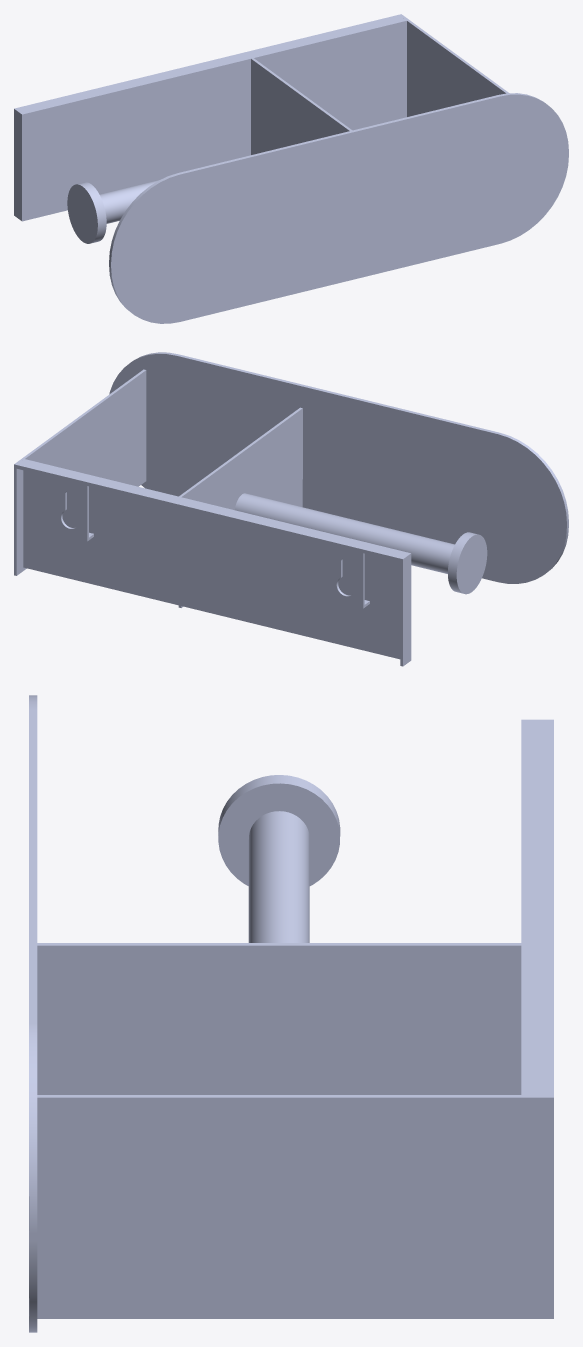
Rendered from round-duetto.2762a3e433.glb.
The picture shows the model from 3 angles, top to bottom: view 1: azimuth 30°, elevation 25°; view 2: azimuth 150°, elevation 25°; view 3: azimuth 270°, elevation 25°; orthographic projection. The views are drawn at different scales.
Parts seen in each view (by area): view 1: NAUO1; view 2: NAUO1; view 3: NAUO1.
Boxes of the visible parts, bbox=[...] form: NAUO1: bbox=[14, 14, 568, 323]; NAUO1: bbox=[14, 352, 568, 666]; NAUO1: bbox=[29, 695, 553, 1332].
Bounding box in the file's own units: 0.26 × 0.08 × 0.129.
